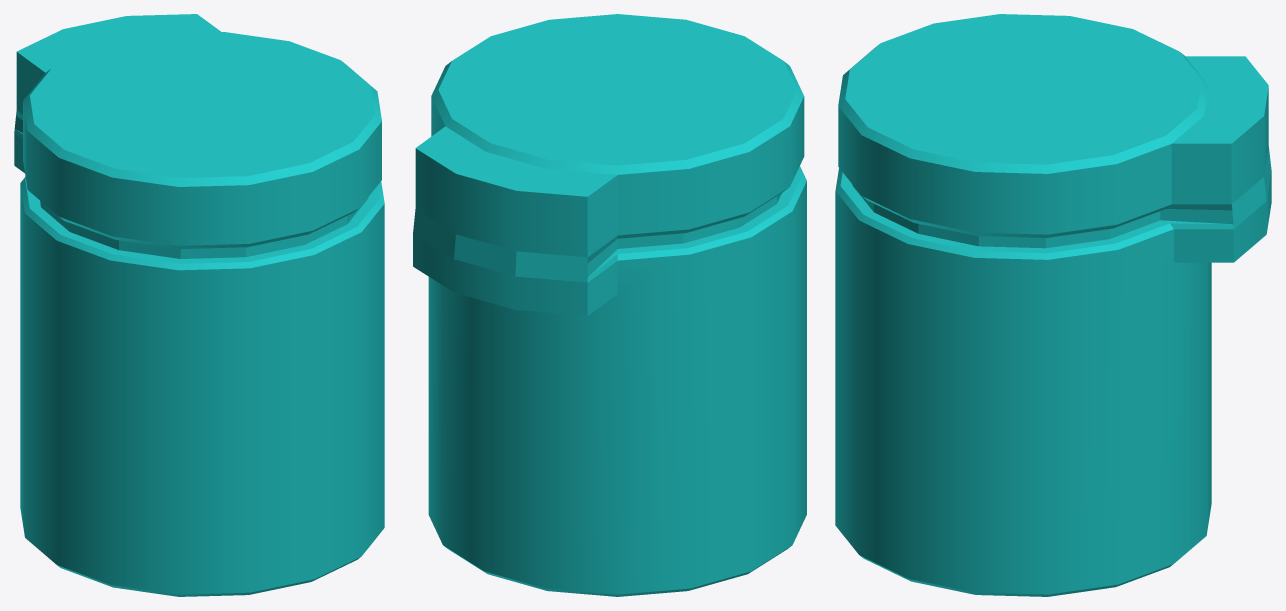
Rendered from tachoDeBasura01.fbx.
3 renders of one model, left to right at view 1: azimuth 30°, elevation 25°; view 2: azimuth 150°, elevation 25°; view 3: azimuth 270°, elevation 25°, orthographic. The views are drawn at different scales.
Visible parts, largest first — view 1: TachoDeBasura01; view 2: TachoDeBasura01; view 3: TachoDeBasura01.
Part boxes in pixels (bbox=[...]): TachoDeBasura01: bbox=[14, 14, 384, 596]; TachoDeBasura01: bbox=[413, 14, 806, 596]; TachoDeBasura01: bbox=[835, 14, 1271, 596].
Bounding box in the file's own units: 0.3211 × 0.4055 × 0.3724.
